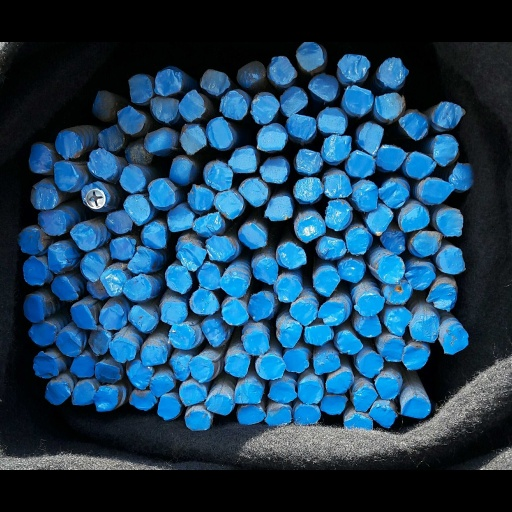dipstickw: (237, 177, 270, 207), (338, 53, 370, 82), (344, 85, 374, 115), (399, 203, 430, 232), (324, 199, 352, 231), (176, 242, 206, 271), (308, 73, 338, 102), (378, 57, 408, 86), (405, 150, 436, 178), (374, 92, 405, 120), (366, 203, 393, 235), (358, 122, 384, 155), (203, 161, 232, 190), (89, 90, 117, 120), (88, 149, 116, 179), (236, 61, 266, 89), (398, 112, 428, 140), (148, 179, 175, 210), (275, 242, 306, 269), (433, 134, 458, 167), (128, 304, 157, 332), (214, 191, 243, 219), (258, 123, 287, 151), (269, 56, 297, 85), (295, 42, 324, 70), (280, 86, 307, 116), (296, 215, 326, 242), (206, 117, 232, 148), (179, 90, 205, 121), (431, 102, 462, 128), (54, 131, 82, 159), (123, 195, 150, 224), (206, 235, 235, 262), (250, 96, 279, 123), (406, 263, 435, 290), (48, 243, 74, 273), (122, 274, 152, 300), (293, 177, 323, 203), (192, 212, 224, 236), (201, 320, 228, 348), (220, 91, 247, 119), (410, 315, 438, 342), (323, 135, 351, 162), (347, 150, 375, 177), (81, 182, 110, 208), (180, 126, 206, 155), (200, 69, 229, 95), (287, 114, 316, 140), (436, 247, 465, 273), (380, 182, 409, 208), (128, 73, 153, 103), (260, 158, 290, 183), (376, 145, 406, 170), (144, 129, 175, 153), (118, 106, 145, 133), (119, 165, 146, 192), (30, 183, 57, 210), (167, 205, 194, 232), (429, 283, 456, 310), (190, 289, 218, 315), (317, 108, 345, 134), (386, 308, 412, 336), (436, 208, 462, 236), (149, 96, 178, 121), (37, 211, 66, 236), (264, 196, 293, 221), (412, 231, 442, 255), (97, 125, 124, 151), (155, 70, 182, 96), (70, 224, 97, 250), (70, 304, 97, 330), (247, 294, 273, 321), (169, 158, 195, 185), (313, 270, 339, 297), (378, 255, 404, 282), (166, 265, 191, 293), (253, 257, 278, 285), (238, 223, 266, 248), (228, 148, 256, 173), (81, 252, 105, 281), (421, 179, 450, 203), (316, 236, 346, 259), (18, 227, 44, 253), (222, 299, 248, 325), (276, 276, 302, 302), (100, 269, 125, 296), (168, 324, 195, 349), (141, 221, 166, 248), (346, 227, 371, 254), (54, 161, 78, 189), (220, 274, 248, 298), (357, 292, 385, 316), (383, 280, 411, 304), (353, 182, 377, 210), (29, 144, 52, 173), (23, 256, 46, 285), (400, 396, 430, 418), (128, 363, 153, 389), (296, 149, 322, 174), (337, 329, 363, 354), (319, 301, 345, 326), (278, 321, 302, 348), (282, 349, 309, 373), (98, 306, 126, 329), (324, 174, 352, 197), (290, 302, 318, 325), (325, 371, 353, 394), (56, 331, 81, 356), (33, 352, 58, 377), (352, 386, 377, 411), (109, 236, 135, 260), (88, 329, 112, 355), (157, 394, 181, 420), (189, 356, 213, 382), (224, 353, 250, 377), (259, 355, 285, 379), (127, 247, 151, 273), (187, 186, 213, 210), (403, 346, 429, 370), (443, 327, 467, 353), (51, 276, 78, 299), (109, 338, 136, 361), (369, 405, 396, 428), (354, 314, 381, 337), (234, 382, 263, 403), (150, 373, 175, 397), (298, 380, 323, 404), (359, 352, 383, 377), (106, 210, 132, 233), (380, 231, 406, 254), (179, 383, 206, 405), (23, 294, 44, 322), (237, 404, 265, 425), (268, 382, 296, 403), (451, 163, 472, 191), (303, 325, 332, 345), (71, 381, 95, 405), (244, 331, 268, 355), (95, 386, 118, 411), (198, 263, 220, 289), (338, 260, 364, 282), (140, 345, 167, 366), (206, 394, 233, 415), (382, 338, 406, 361), (30, 323, 55, 345), (161, 302, 186, 324), (374, 377, 399, 399), (169, 355, 190, 381), (130, 390, 157, 410), (95, 362, 120, 383), (184, 410, 210, 430), (294, 405, 320, 425), (314, 354, 340, 374), (46, 383, 70, 404), (70, 357, 95, 377), (320, 395, 346, 414), (344, 413, 373, 430), (266, 406, 291, 425)
